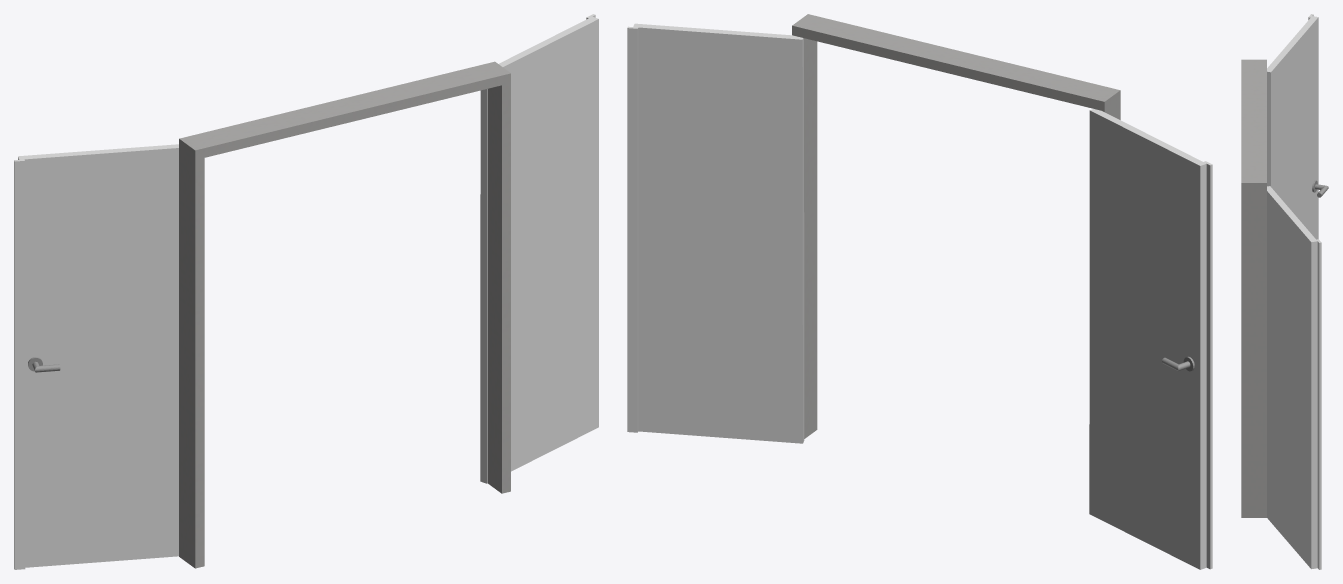
The model's file is door_160_metal_fully_open.dae.
3 views of the same model, side by side, from view 1: azimuth 30°, elevation 25°; view 2: azimuth 150°, elevation 25°; view 3: azimuth 270°, elevation 25° (orthographic). The views are drawn at different scales.
Parts seen in each view (by area): view 1: dvere_80_sklikou, dvere_80_bezkliky, futra_160; view 2: dvere_80_bezkliky, dvere_80_sklikou, futra_160; view 3: dvere_80_bezkliky, futra_160, dvere_80_sklikou.
Boxes of the visible parts, x1=… form: dvere_80_sklikou: x1=14, y1=144, x2=178, y2=569; dvere_80_bezkliky: x1=480, y1=14, x2=598, y2=483; futra_160: x1=179, y1=61, x2=510, y2=568; dvere_80_bezkliky: x1=627, y1=23, x2=804, y2=443; dvere_80_sklikou: x1=1089, y1=109, x2=1212, y2=569; futra_160: x1=792, y1=14, x2=1120, y2=438; dvere_80_bezkliky: x1=1267, y1=186, x2=1321, y2=569; futra_160: x1=1241, y1=59, x2=1266, y2=517; dvere_80_sklikou: x1=1267, y1=14, x2=1328, y2=239.
Size of the model in its own units: 3.15 by 0.51 by 2.15.
Materials: 4 (1 with a texture image).
